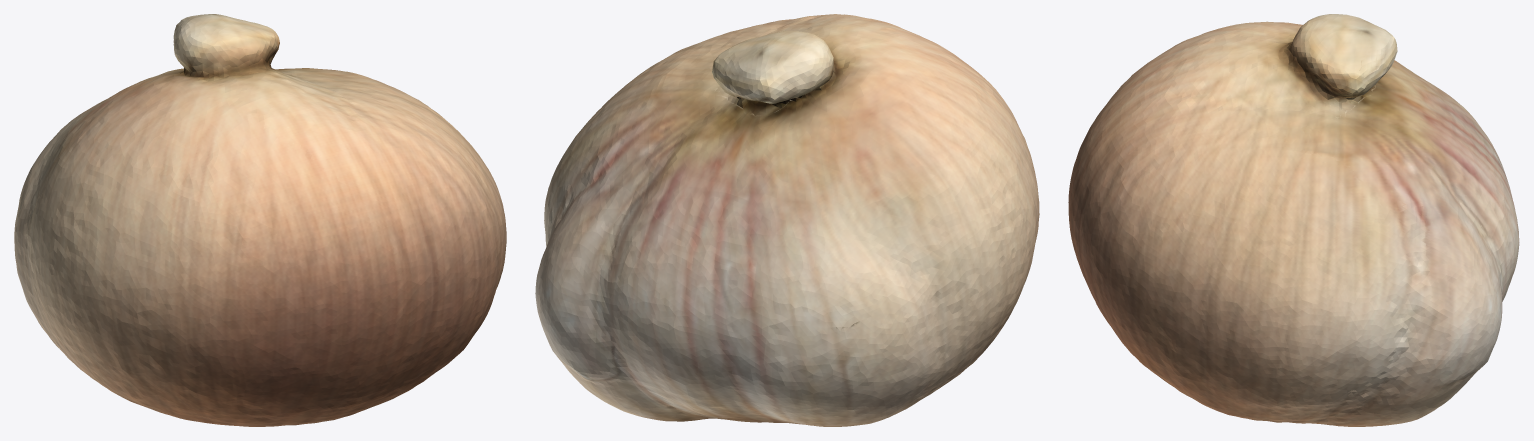
The picture shows the model from 3 angles, left to right: view 1: azimuth 30°, elevation 25°; view 2: azimuth 150°, elevation 25°; view 3: azimuth 270°, elevation 25°; orthographic projection. The views are drawn at different scales.
Visible parts, largest first — view 1: world; view 2: world; view 3: world.
Part boxes in pixels (<box>): world: <box>14,14,506,426</box>; world: <box>535,14,1039,426</box>; world: <box>1068,14,1519,426</box>.
Size of the model in its own units: 0.9825 by 0.8233 by 0.9504.
Materials: 1 (1 with a texture image).
